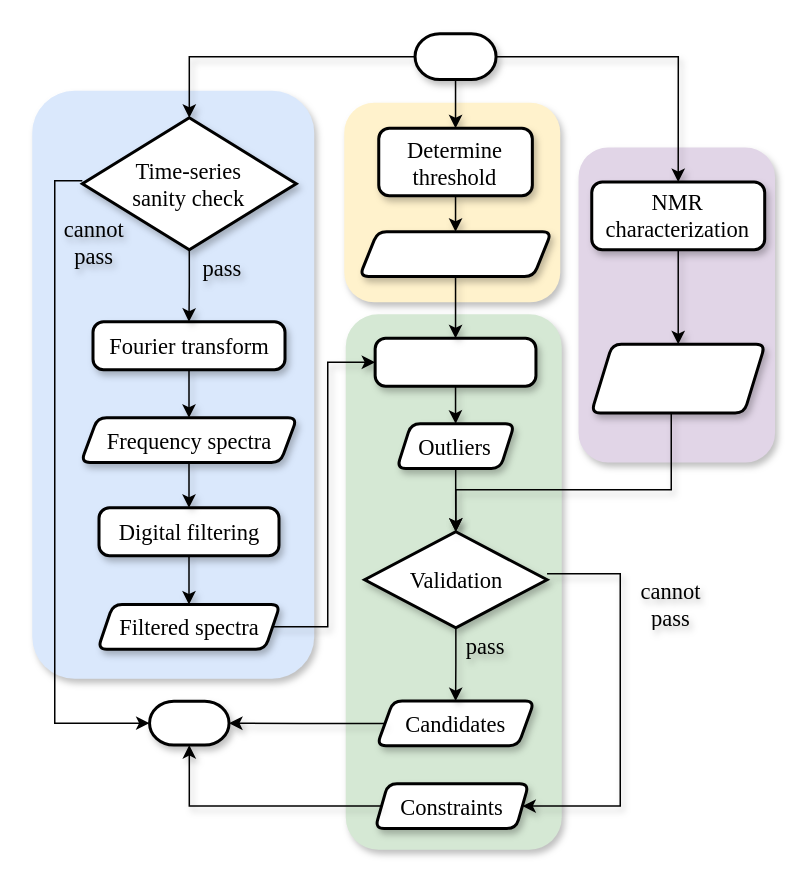
Image size: 810x885. Some labels were removed from this diagram. Here are the shapes that lost their labels. From the top down, the centre of each, then its label:
the point at 456,58: Start
the point at 456,256: Outlier threshold
the point at 456,364: Find outliers
the point at 679,380: NMR configuration
the point at 190,724: End
